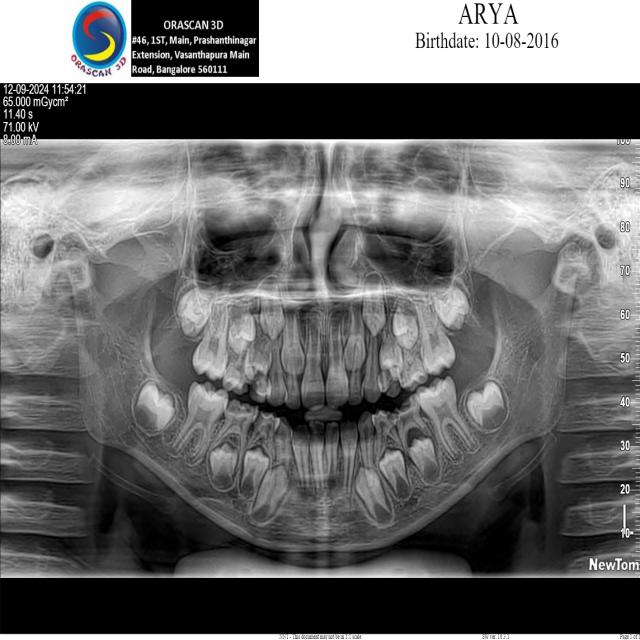Premolars: (373, 408, 406, 468)
